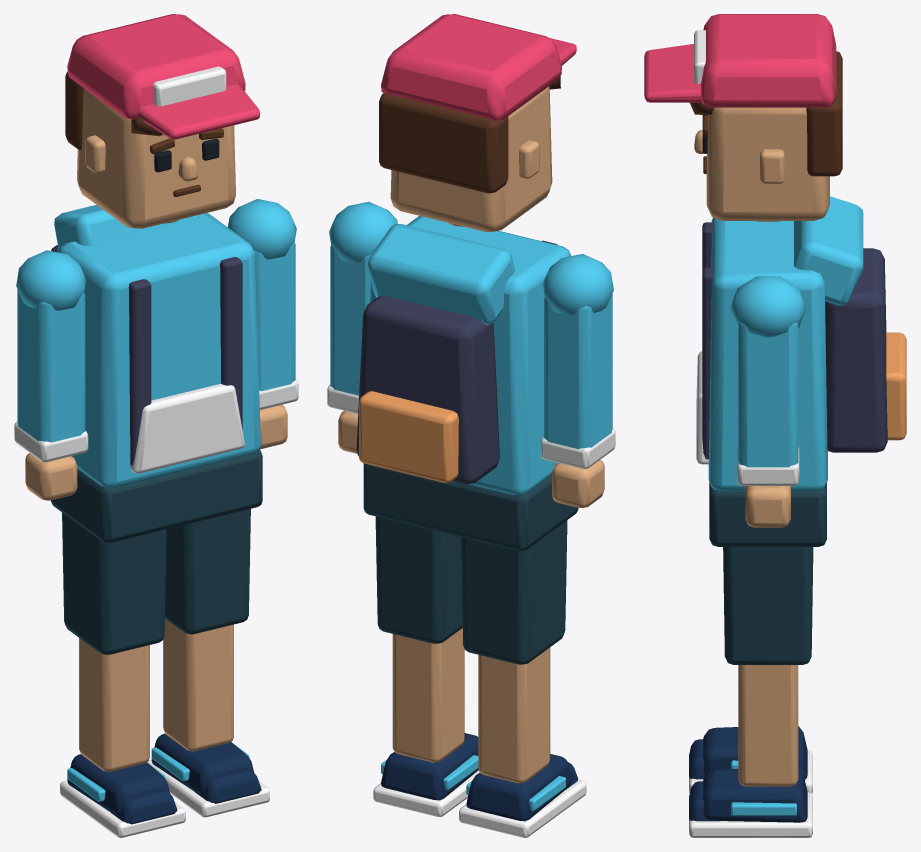
The model's file is leo.glb.
The picture shows the model from 3 angles, left to right: view 1: azimuth 30°, elevation 25°; view 2: azimuth 150°, elevation 25°; view 3: azimuth 270°, elevation 25°; orthographic projection.
Parts seen in each view (by area): view 1: HoodieTorso, Cranium, LegL_Shorts, ShortsWaist, CapCrown, LegR_Shorts, ArmL_Sleeve, LegL_Shin, LegR_Shin, KangarooPocket, ArmR_Sleeve, CapBrim (+20 smaller); view 2: BackpackMain, HoodieTorso, CapCrown, LegL_Shorts, ShortsWaist, DrapedHood, HairBack, LegR_Shorts, ArmL_Sleeve, Cranium, LegL_Shin, LegR_Shin (+15 smaller); view 3: HoodieTorso, CapCrown, Cranium, BackpackMain, LegR_Shorts, ArmR_Sleeve, LegR_Shin, DrapedHood, ShortsWaist, LegR_ShoeUpper, ArmR_Shoulder, CapBrim (+13 smaller).
Boxes of the visible parts, box(x1,y1,x2,y2) form: HoodieTorso: box(58, 213, 260, 488); Cranium: box(77, 89, 235, 228); LegL_Shorts: box(62, 512, 166, 654); ShortsWaist: box(51, 449, 262, 542); CapCrown: box(67, 14, 245, 119); LegR_Shorts: box(165, 509, 250, 634); ArmL_Sleeve: box(17, 289, 85, 442); LegL_Shin: box(79, 638, 149, 771); LegR_Shin: box(163, 619, 233, 751); KangarooPocket: box(130, 383, 244, 473); ArmR_Sleeve: box(253, 242, 295, 391); CapBrim: box(138, 84, 260, 139); BackpackMain: box(356, 295, 499, 484); HoodieTorso: box(370, 216, 570, 495); CapCrown: box(381, 14, 561, 120); LegL_Shorts: box(461, 520, 567, 664); ShortsWaist: box(363, 463, 578, 551); DrapedHood: box(367, 223, 514, 325); HairBack: box(379, 93, 508, 193); LegR_Shorts: box(375, 516, 462, 643); ArmL_Sleeve: box(544, 294, 612, 449); Cranium: box(390, 86, 552, 231); LegL_Shin: box(478, 647, 550, 783); LegR_Shin: box(392, 628, 464, 762); HoodieTorso: box(708, 218, 827, 490); CapCrown: box(701, 14, 836, 107); Cranium: box(706, 107, 829, 220); BackpackMain: box(825, 248, 887, 452); LegR_Shorts: box(723, 547, 813, 664); ArmR_Sleeve: box(738, 322, 798, 467); LegR_Shin: box(738, 665, 798, 786); DrapedHood: box(794, 196, 863, 305); ShortsWaist: box(709, 482, 826, 546); LegR_ShoeUpper: box(703, 768, 807, 822); ArmR_Shoulder: box(730, 276, 806, 337); CapBrim: box(644, 44, 701, 102).
Size of the model in its own units: 0.7674 by 2.04 by 0.635.
